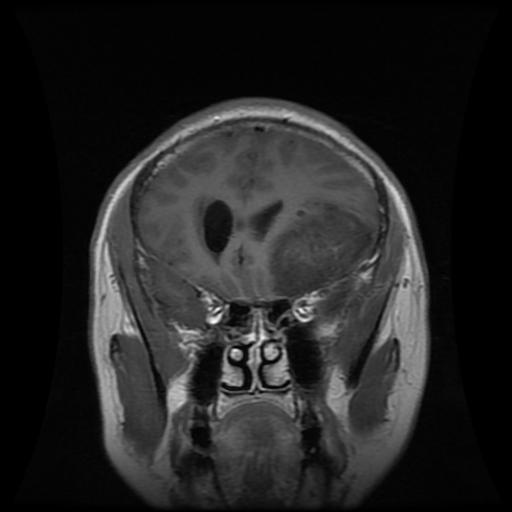Gliomia_tumour: (268, 204, 371, 296)
